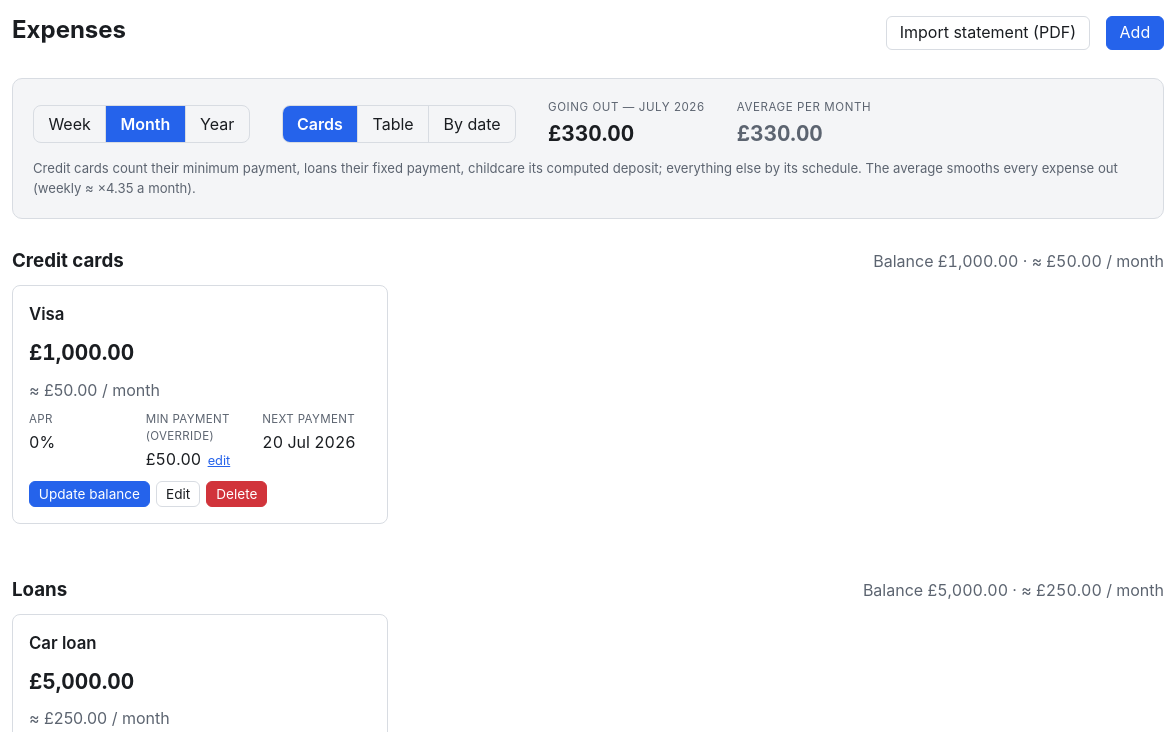
Expenses screen › shows the month by date with gone-out and still-to-go totals
The image size is (1176, 732).
Check: the text "Visa" is shown, box [29,302,64,327]
Click the button "By date" at (472, 124), box [428,106,515,142]
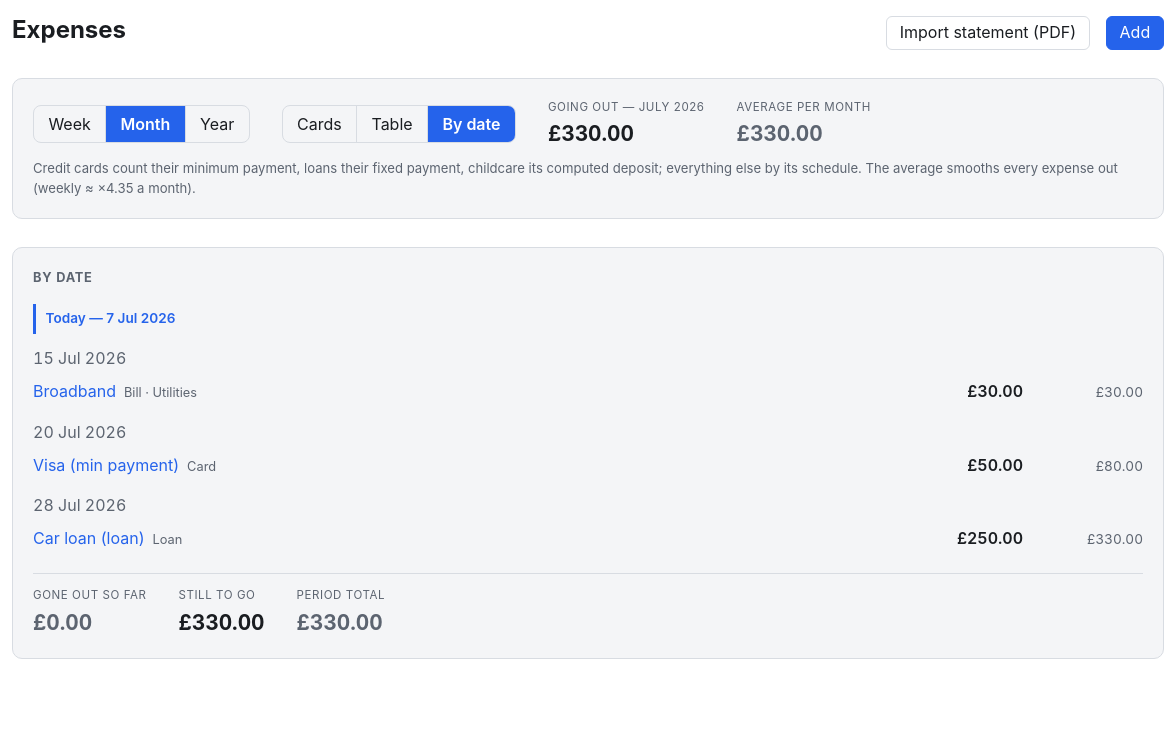
Check: the text "Still to go" is shown, box [178,587,265,605]
Check: the text "£0.00" is shown, box [33,610,92,635]
Check: the text "£330.00" below "Still to go" is shown, box [178,610,265,635]
# The Week period narrows the list to nothing.
Click the button "Week" at (70, 124), box [34,106,105,142]
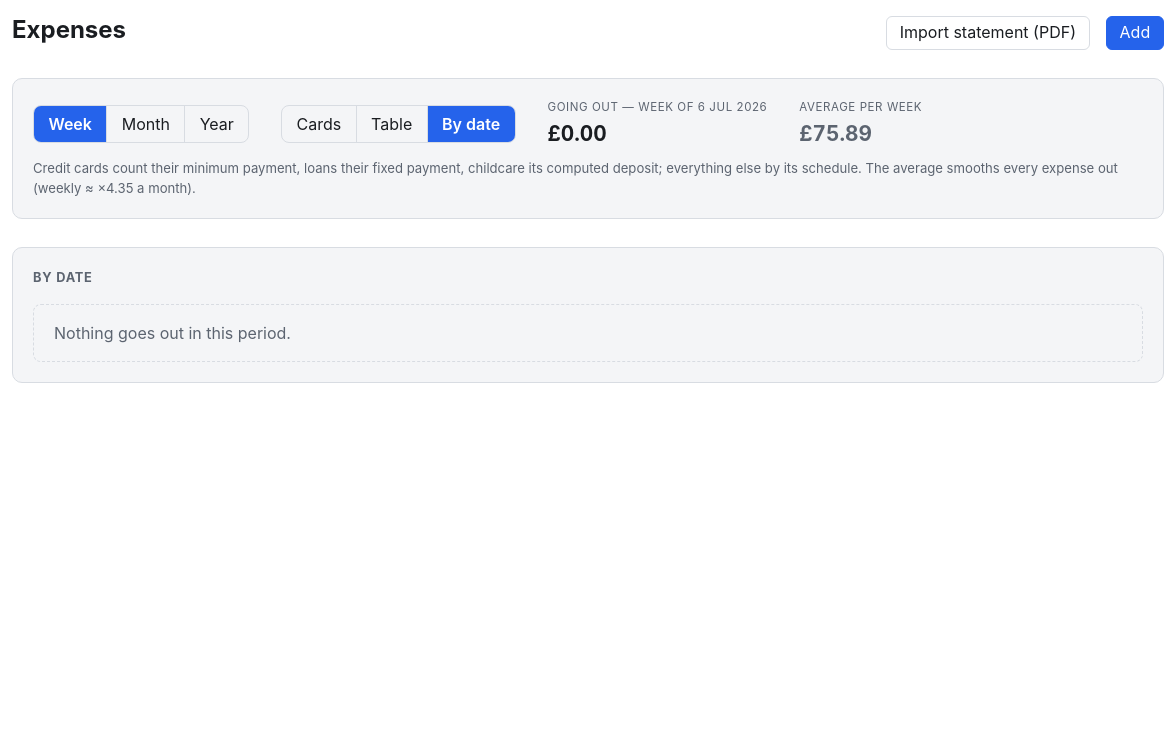
Check: the text "Nothing goes out in this period." is shown, box [54,323,291,343]
